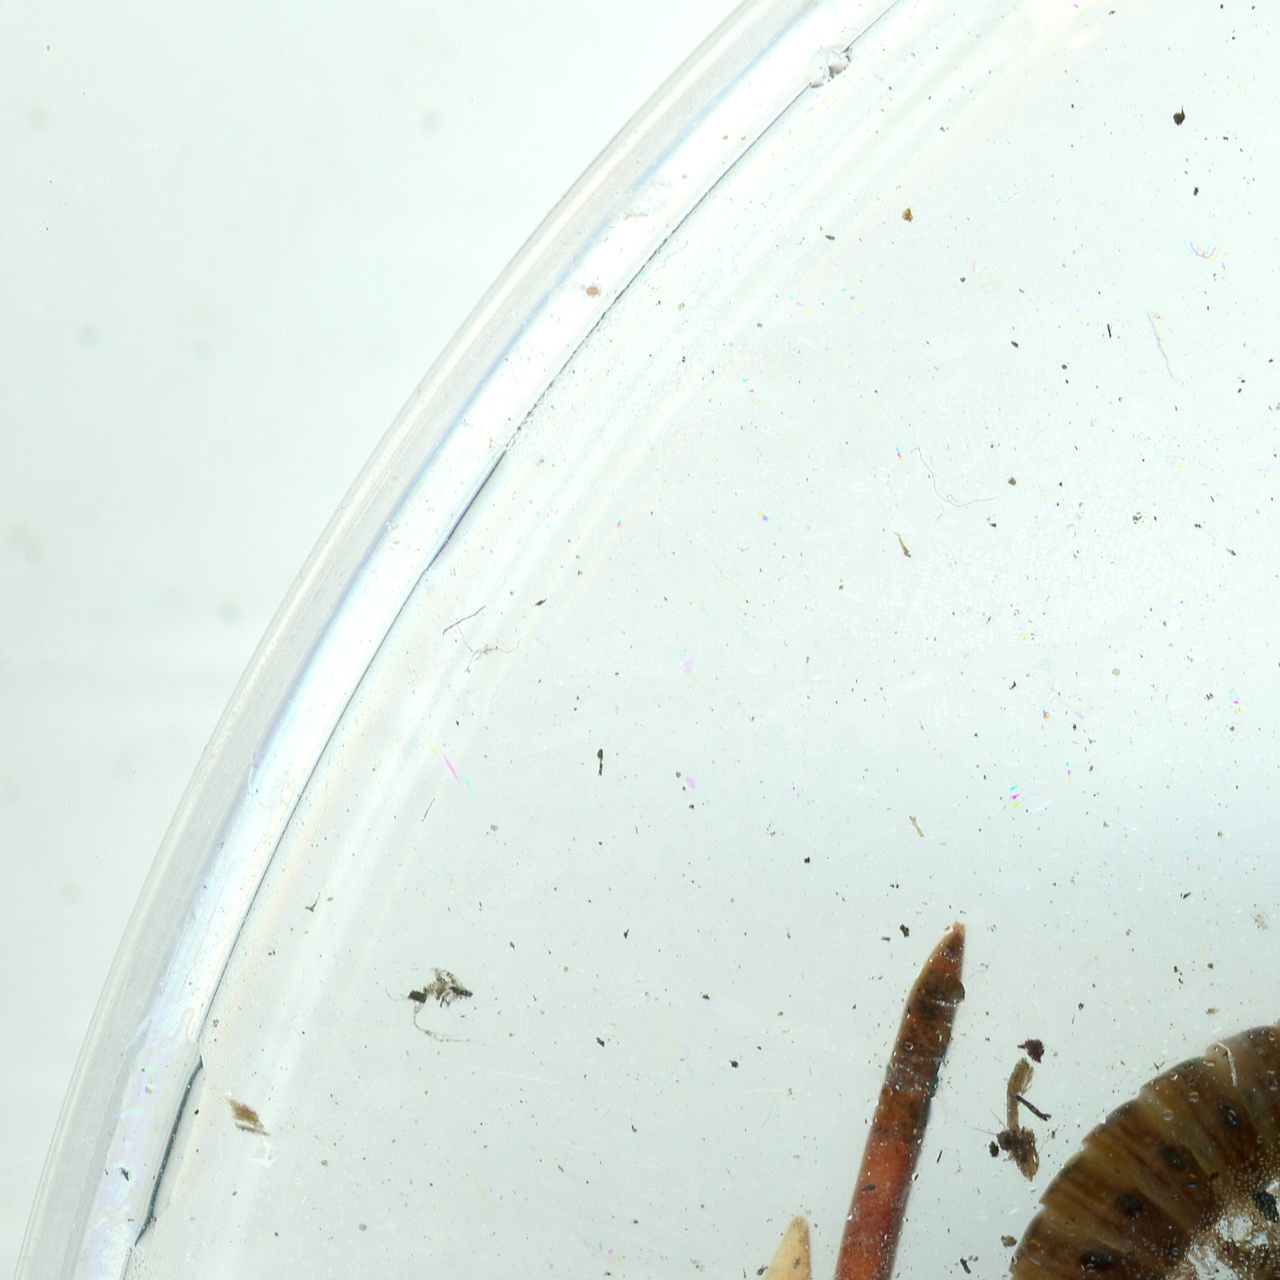arthropod: (981, 993, 1280, 1280), (971, 1108, 1047, 1190)
